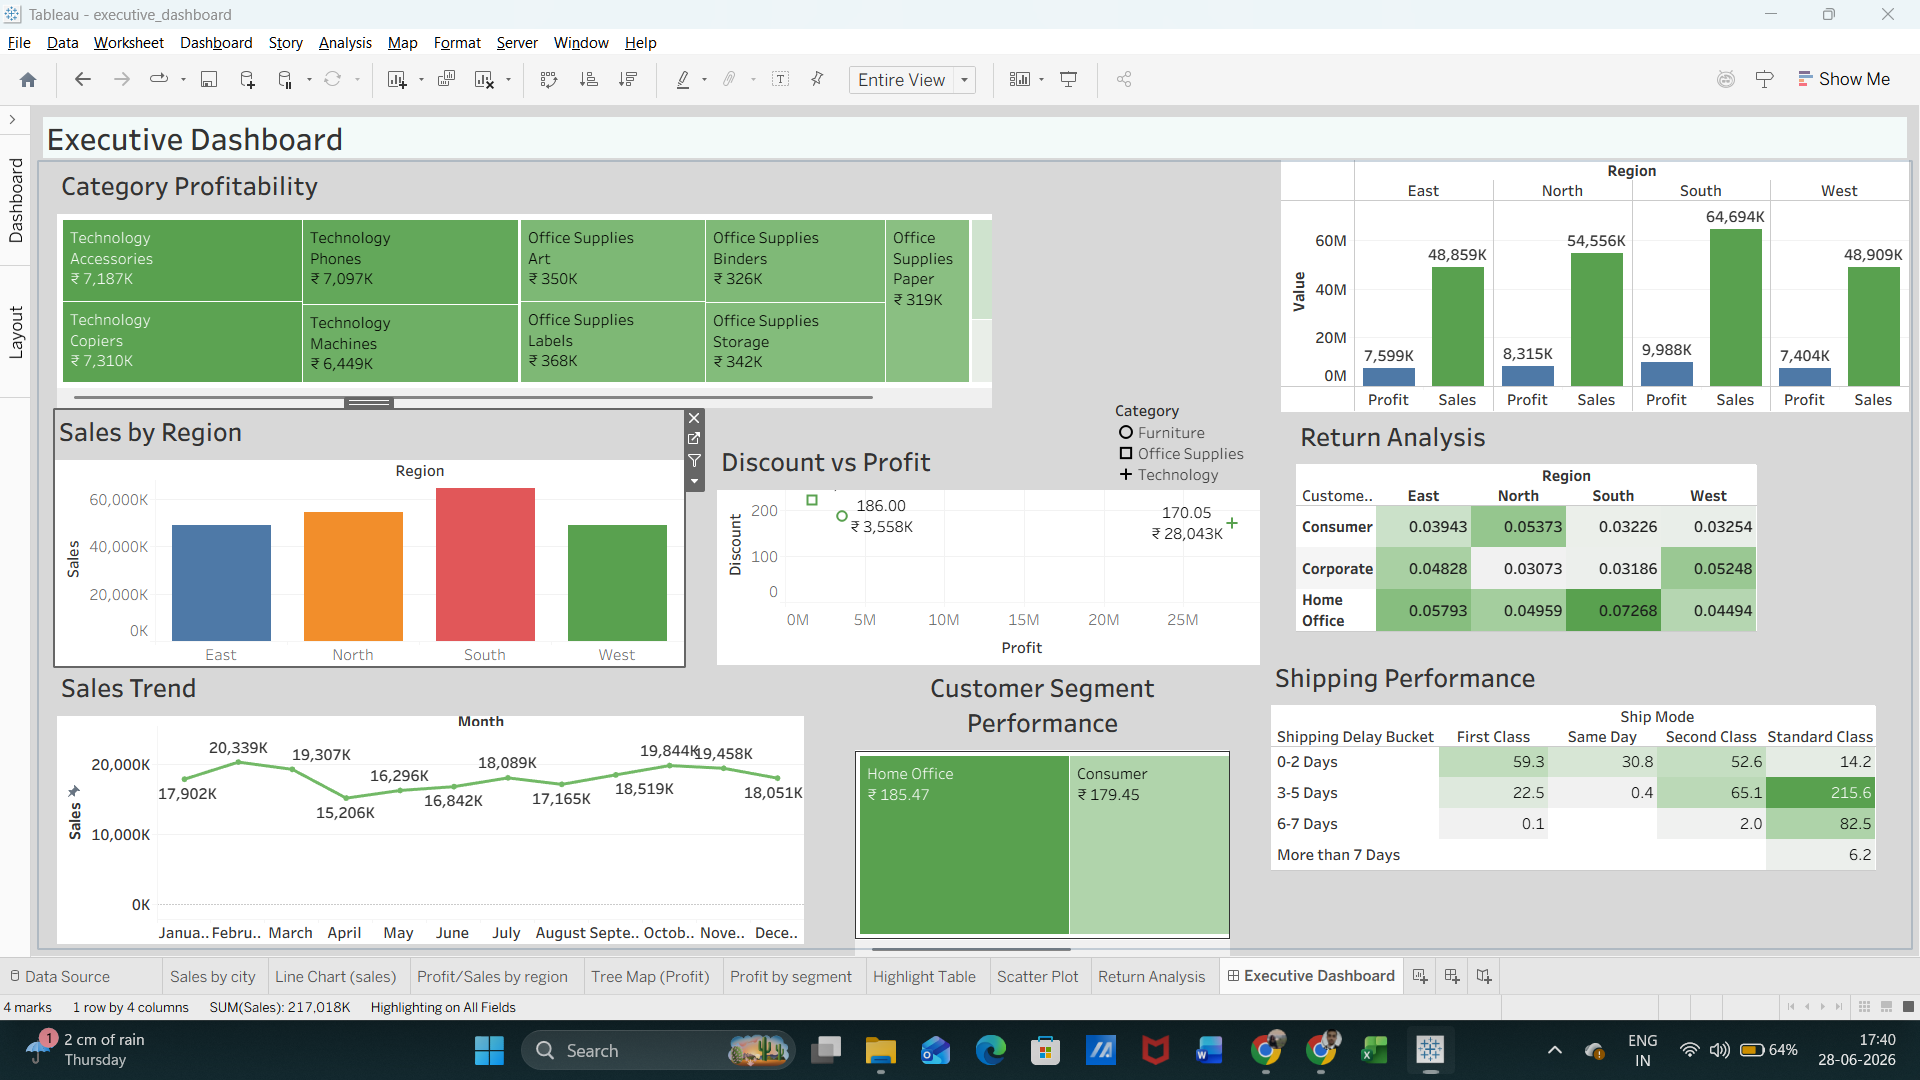

What the dashboard file says about the page in this screenshot:
{"tool":"tableau","page":{"name":"Executive Dashboard","canvas":[1000,1000],"units":"permille","ordinal":0},"visuals":[{"type":"title","box":[4.2,9.4,991.5,57.6]},{"type":"worksheet","title":"Profit/Sales by region","mark":"Automatic","cols":["region"],"box":[662,64.6,333.1,296.1]},{"type":"worksheet","title":"Tree Map (Profit)","mark":"Automatic","box":[13.9,69.3,495.5,286.7]},{"type":"legend","title":"Scatter Plot","param":"[federated.0z5z3j31rj5l7211yzydh0zxtakk].[none:category:nk]","box":[573.9,346.7,85.1,99.9]},{"type":"worksheet","title":"Sales by city","mark":"Automatic","rows":["sales"],"cols":["region"],"box":[12.7,358.4,333.1,300.8]},{"type":"worksheet","title":"Return Analysis","mark":"Square","rows":["customer_segment"],"cols":["region"],"box":[669.9,364.3,311.4,266.8]},{"type":"worksheet","title":"Scatter Plot","mark":"Automatic","rows":["discount"],"cols":["profit"],"box":[363.3,393.7,287.9,264.4]},{"type":"worksheet","title":"Highlight Table","mark":"Square","rows":["Calculation_2171277562015750"],"cols":["ship_mode"],"box":[656.8,647.5,335.8,332.6]},{"type":"worksheet","title":"Line Chart (sales)","mark":"Line","rows":["sales"],"cols":["Month"],"box":[13.8,659.2,395.7,326.7]},{"type":"worksheet","title":"Profit by segment","mark":"Automatic","box":[436.3,659.2,198.6,345.5]}]}

Visuals, with their boxes on the dashboard's canvas, which has no fixed pixel size, in thousandths of its width and height (x1, y1, x2, y2). These are canvas units, not pixel positions in the 1920x1080 screenshot, which may show the page scaled, cropped or inside an application window:
title: box=[4, 9, 996, 67]
"Profit/Sales by region" worksheet: box=[662, 65, 995, 361]
"Tree Map (Profit)" worksheet: box=[14, 69, 509, 356]
"Scatter Plot" legend: box=[574, 347, 659, 447]
"Sales by city" worksheet: box=[13, 358, 346, 659]
"Return Analysis" worksheet (Square marks): box=[670, 364, 981, 631]
"Scatter Plot" worksheet: box=[363, 394, 651, 658]
"Highlight Table" worksheet (Square marks): box=[657, 648, 993, 980]
"Line Chart (sales)" worksheet (Line marks): box=[14, 659, 410, 986]
"Profit by segment" worksheet: box=[436, 659, 635, 1005]
